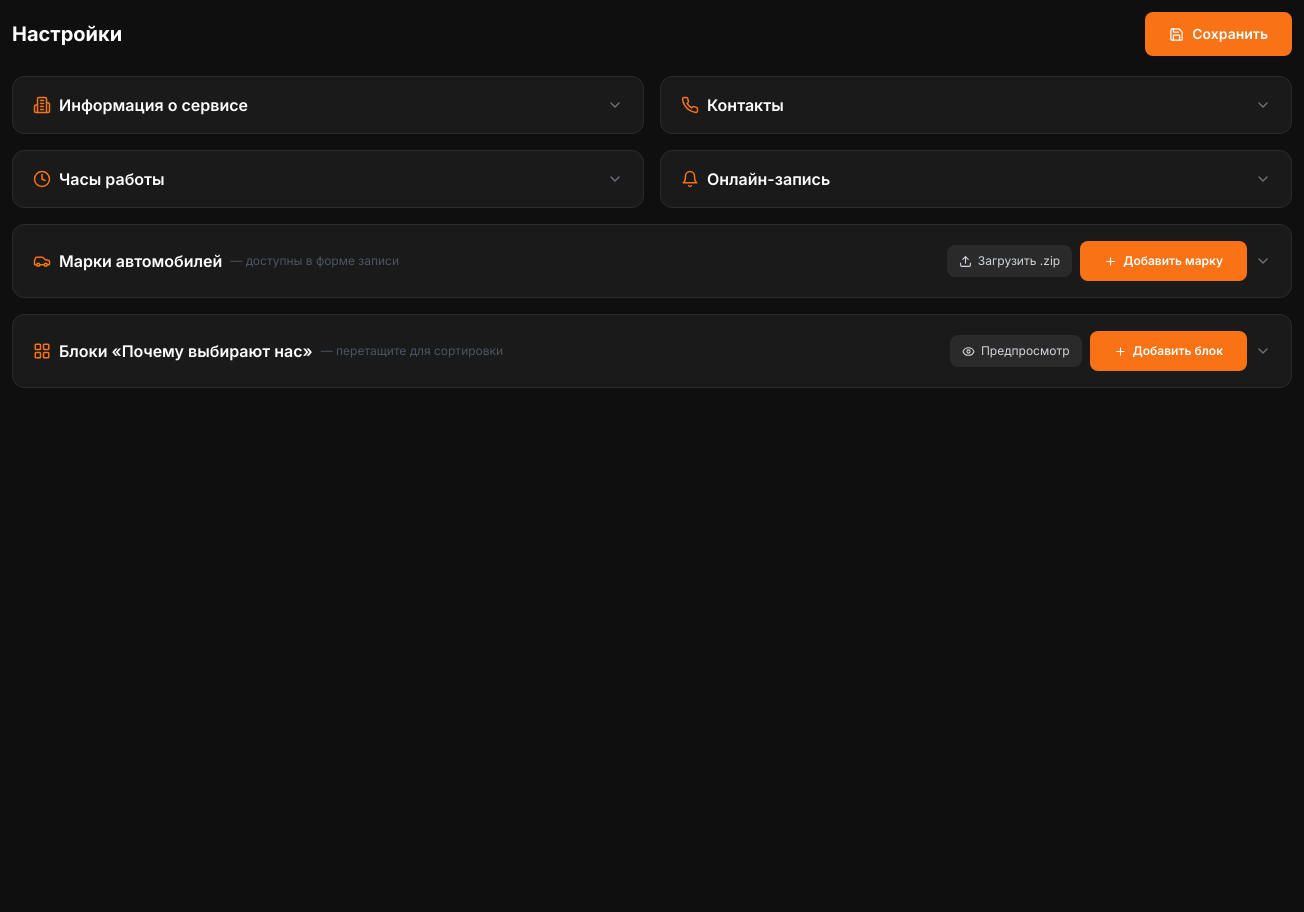
Test: SettingsPage › expands Онлайн-запись section and shows slot duration input
Click the heading "Онлайн-запись" at (769, 179), box [707,167,830,191]
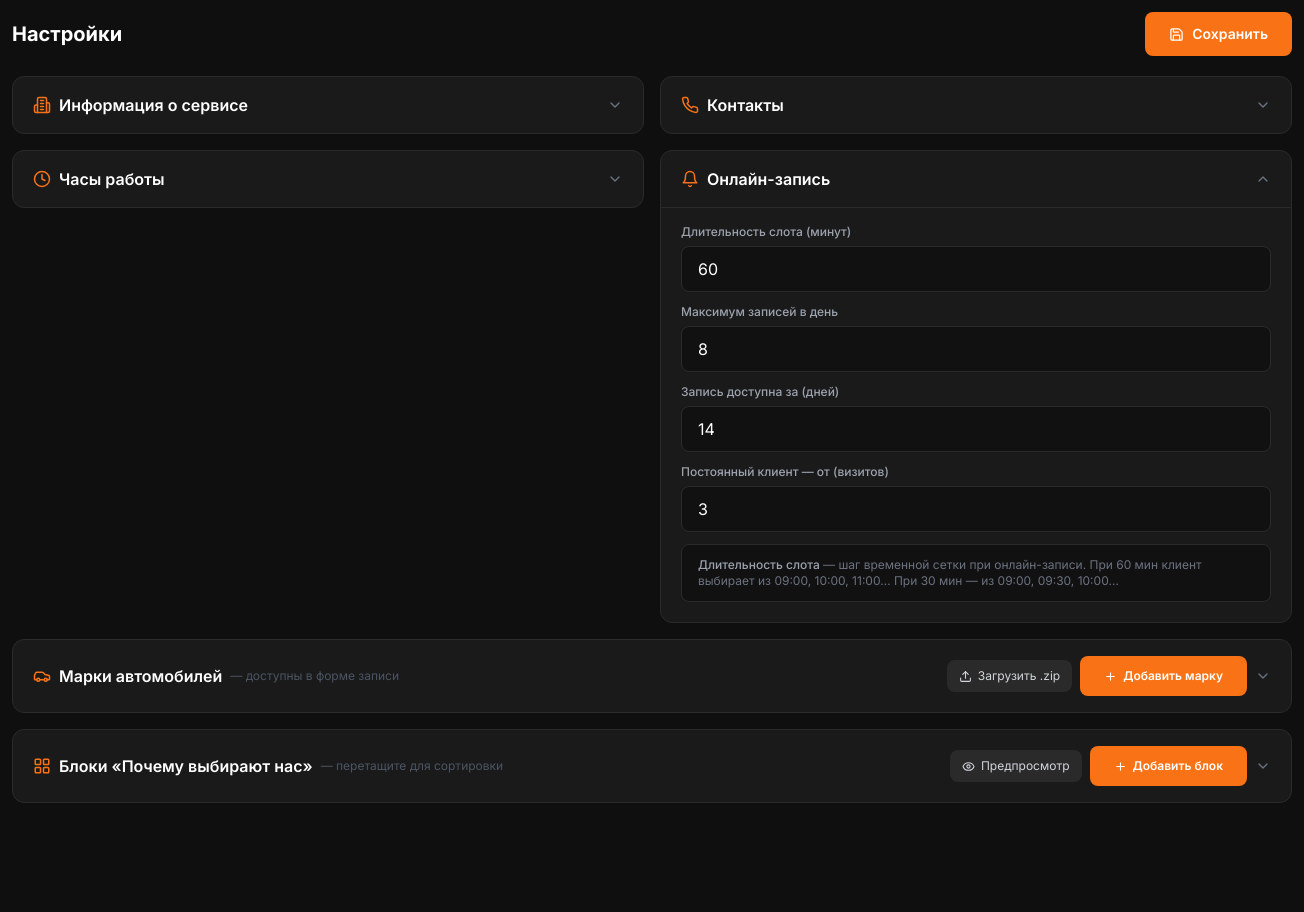
Now the text "Длительность слота (минут)" is shown, box [681,224,851,239]
